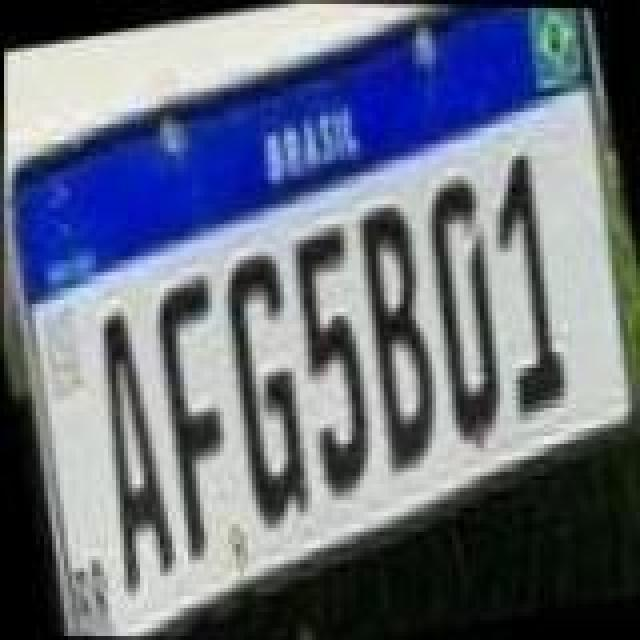1: (464, 150, 580, 426)
5: (274, 216, 402, 508)
A: (70, 298, 186, 590)
B: (338, 192, 458, 472)
D: (406, 164, 526, 444)
F: (132, 266, 260, 566)
G: (202, 244, 326, 536)
